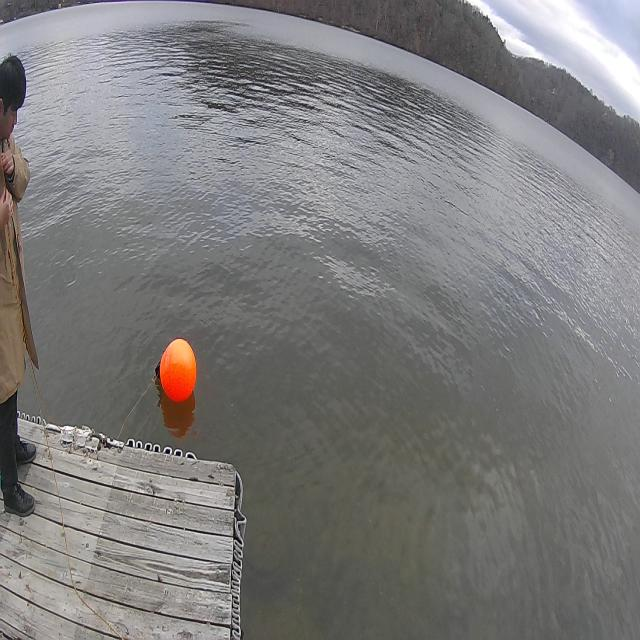Buoy: (156, 329, 200, 409)
